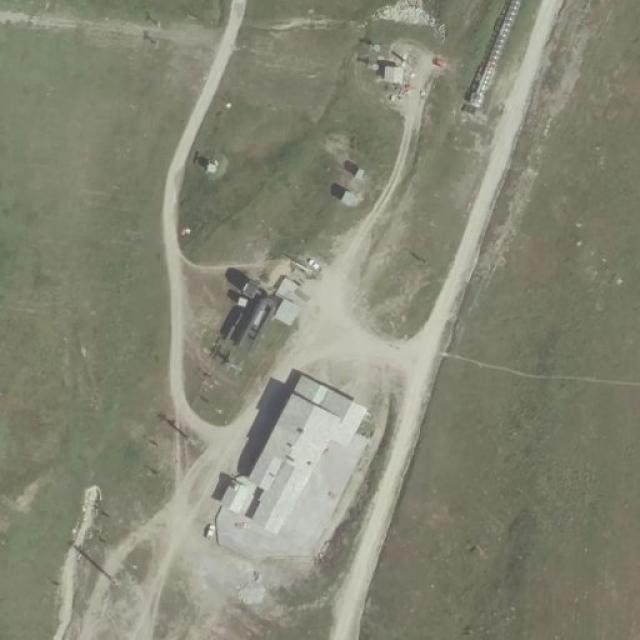ferme: (210, 365, 373, 548)
